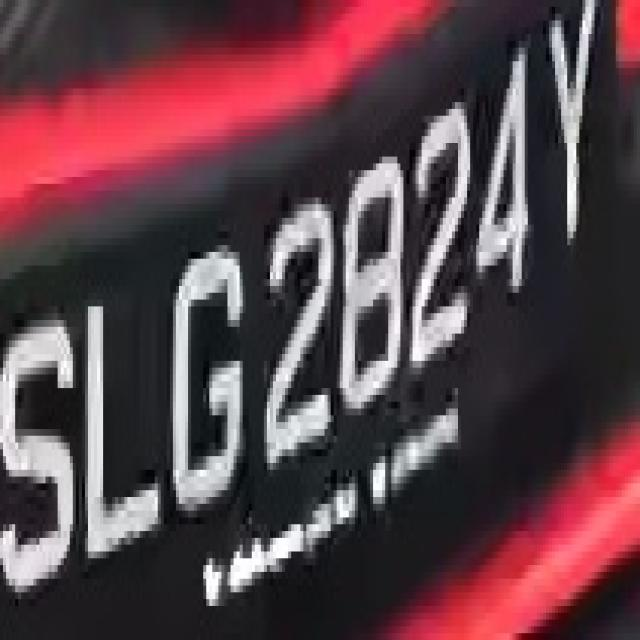2: (404, 102, 486, 388), (270, 171, 340, 484)
4: (473, 34, 540, 327)
8: (336, 150, 416, 442)
G: (164, 211, 258, 524)
L: (70, 266, 167, 599)
Y: (546, 7, 604, 265)
